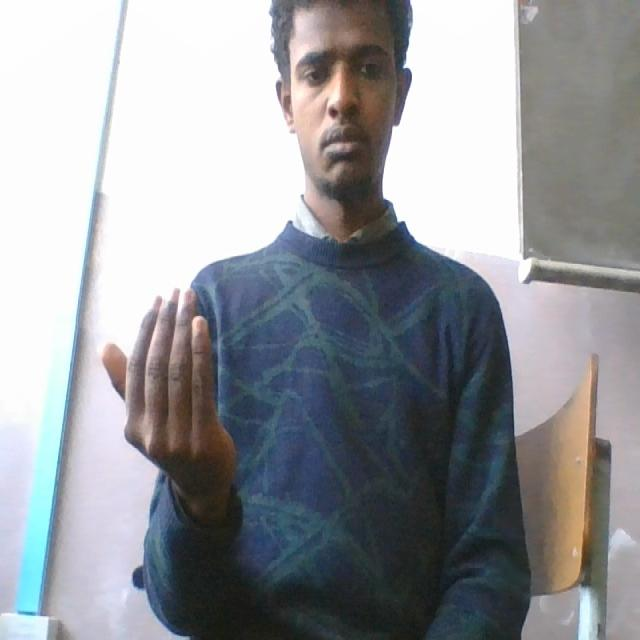na: (96, 282, 244, 541)
